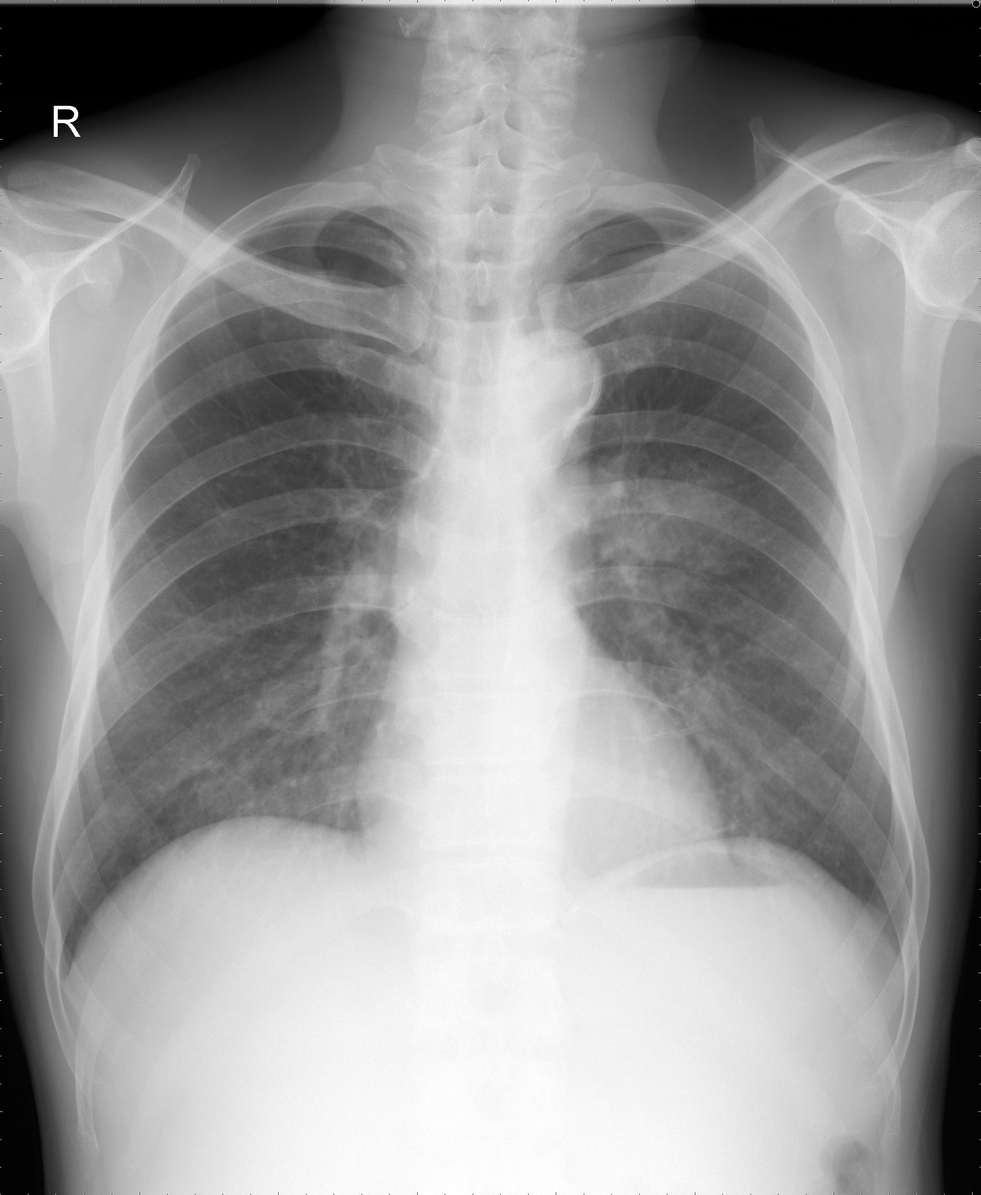Aortic enlargement: (494, 326, 605, 461)
